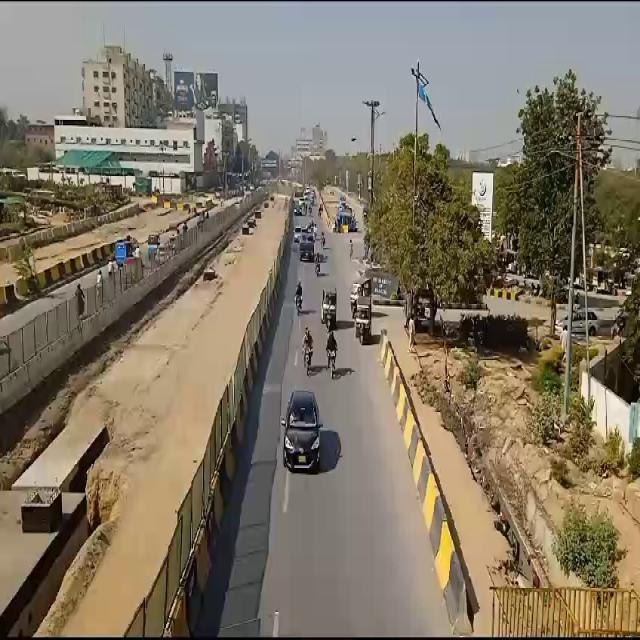car: (280, 390, 322, 473), (557, 304, 600, 337)
motorbike: (325, 331, 339, 378), (302, 322, 314, 376), (294, 278, 304, 316), (314, 248, 322, 278)
truck: (299, 225, 315, 265)
